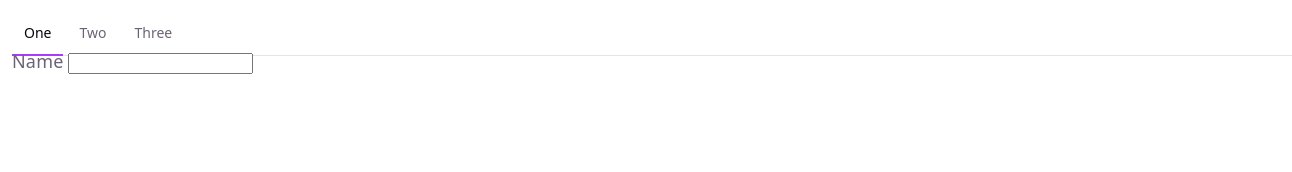
Tabs › [TAB-003] shows only the selected panel, and a click selects another
What coordinates should you click on to do the following:
click the tab "Three"
I would click on:
 (153, 34)
Its box is [122,12,184,56].
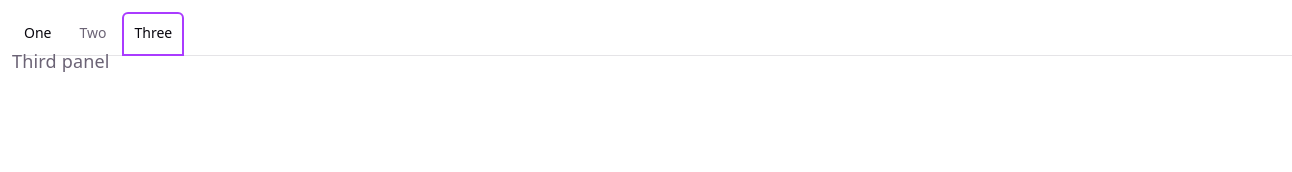
Now the number of panels is 1, box [12,49,110,73]
Now the panel reads "Third panel", box [12,49,110,73]
